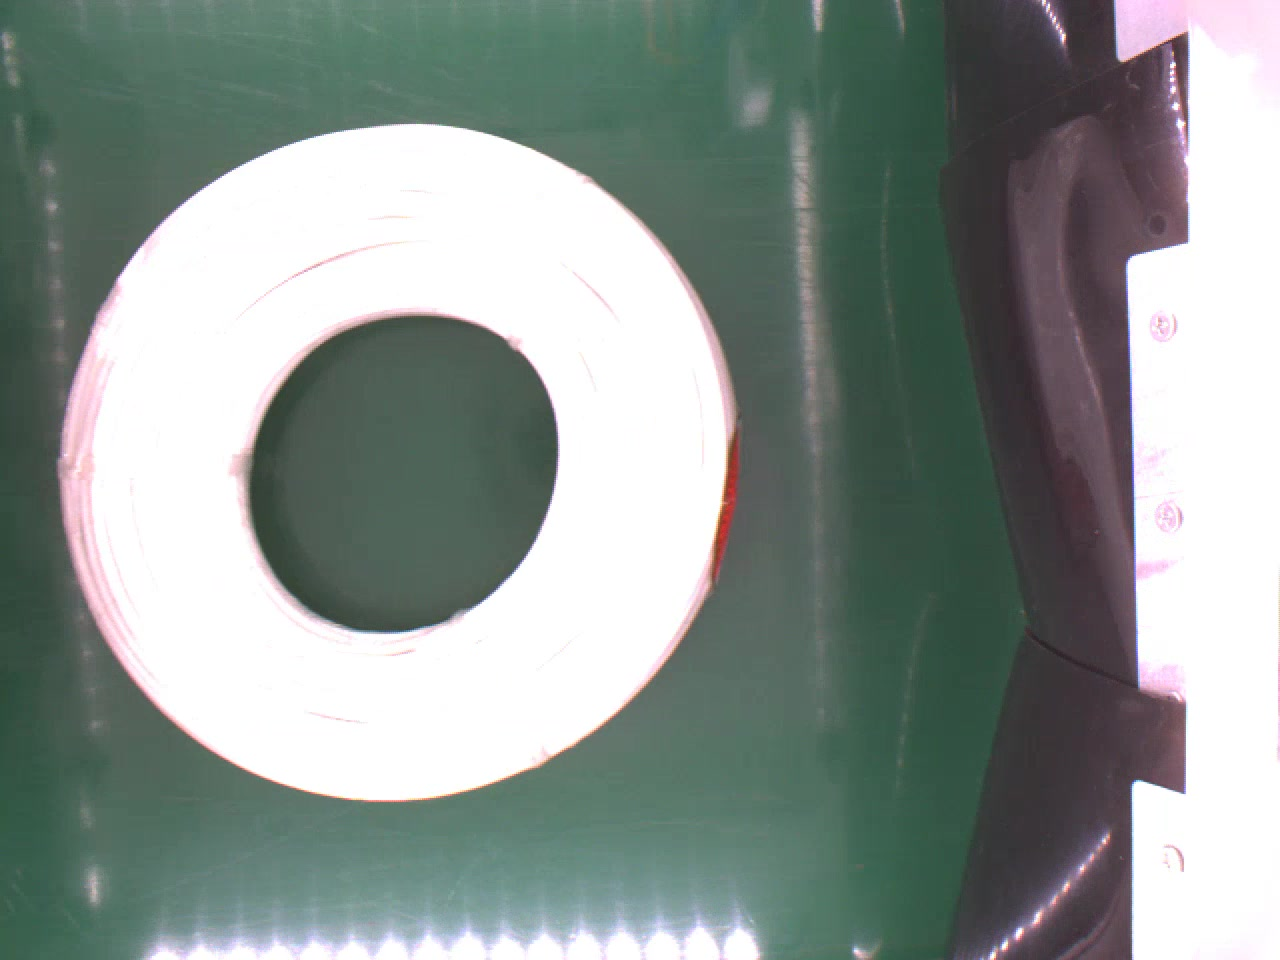white: (52, 117, 741, 805)
